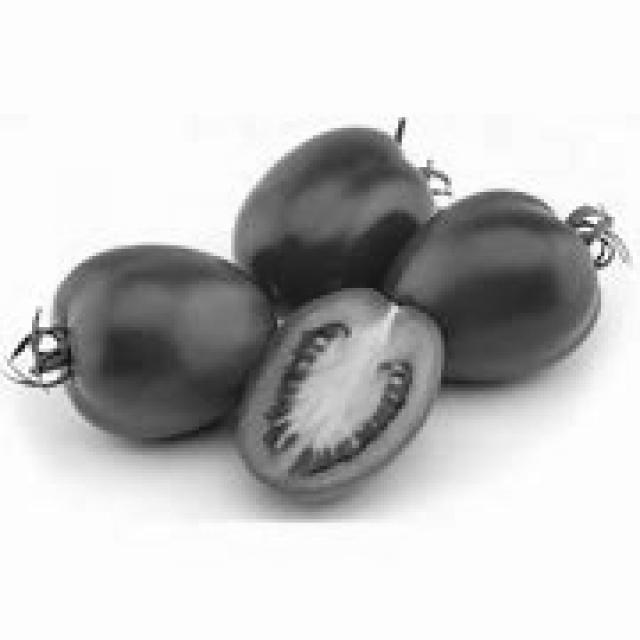Fresh_tomato: (418, 154, 623, 388), (18, 249, 258, 443), (229, 107, 449, 297), (270, 285, 432, 480)
